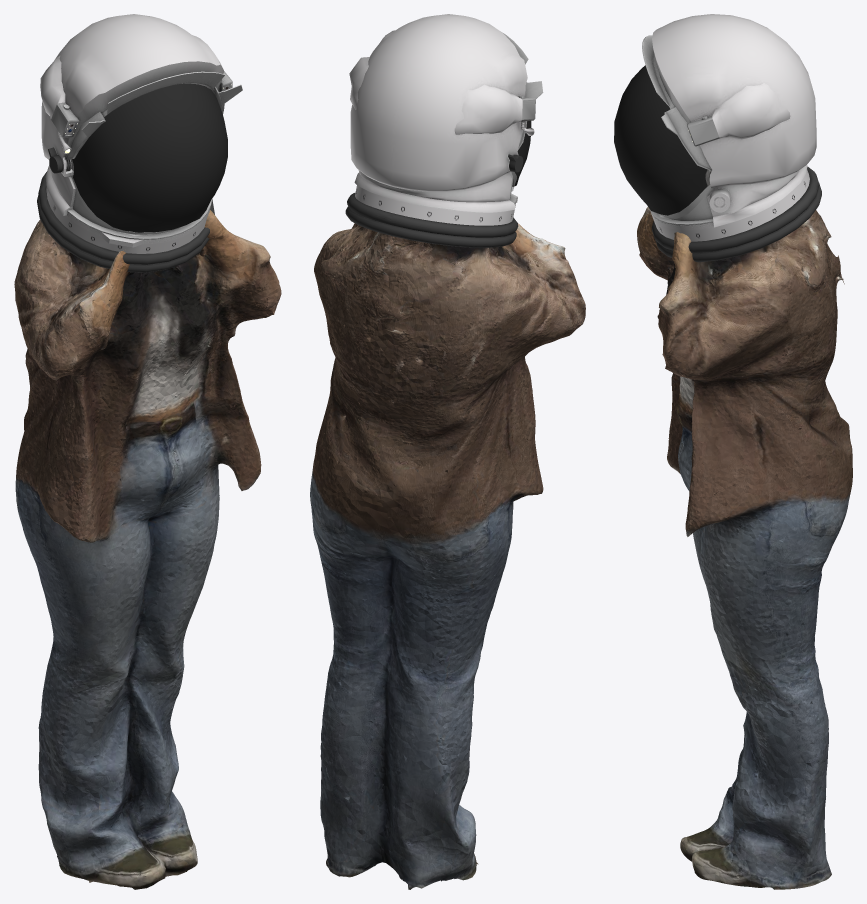
Rendered from Meeee10.glb.
3 renders of one model, left to right at view 1: azimuth 30°, elevation 25°; view 2: azimuth 150°, elevation 25°; view 3: azimuth 270°, elevation 25°, orthographic. The views are drawn at different scales.
Parts seen in each view (by area): view 1: Me3, Helmet-Body_Helmet-Body_0; view 2: Me3, Helmet-Body_Helmet-Body_0; view 3: Me3, Helmet-Body_Helmet-Body_0.
Part boxes in pixels (<box>): Me3: <box>14,210,281,889</box>; Helmet-Body_Helmet-Body_0: <box>37,14,242,272</box>; Me3: <box>310,208,585,889</box>; Helmet-Body_Helmet-Body_0: <box>345,14,543,247</box>; Me3: <box>637,170,852,889</box>; Helmet-Body_Helmet-Body_0: <box>614,14,821,262</box>.
Size of the model in its own units: 2.46 by 8.18 by 2.11.
4 materials, 2 textured.
